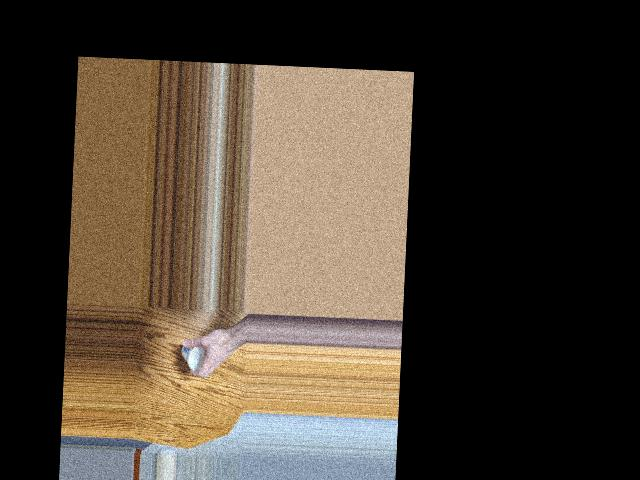cotage: (181, 337, 207, 370)
